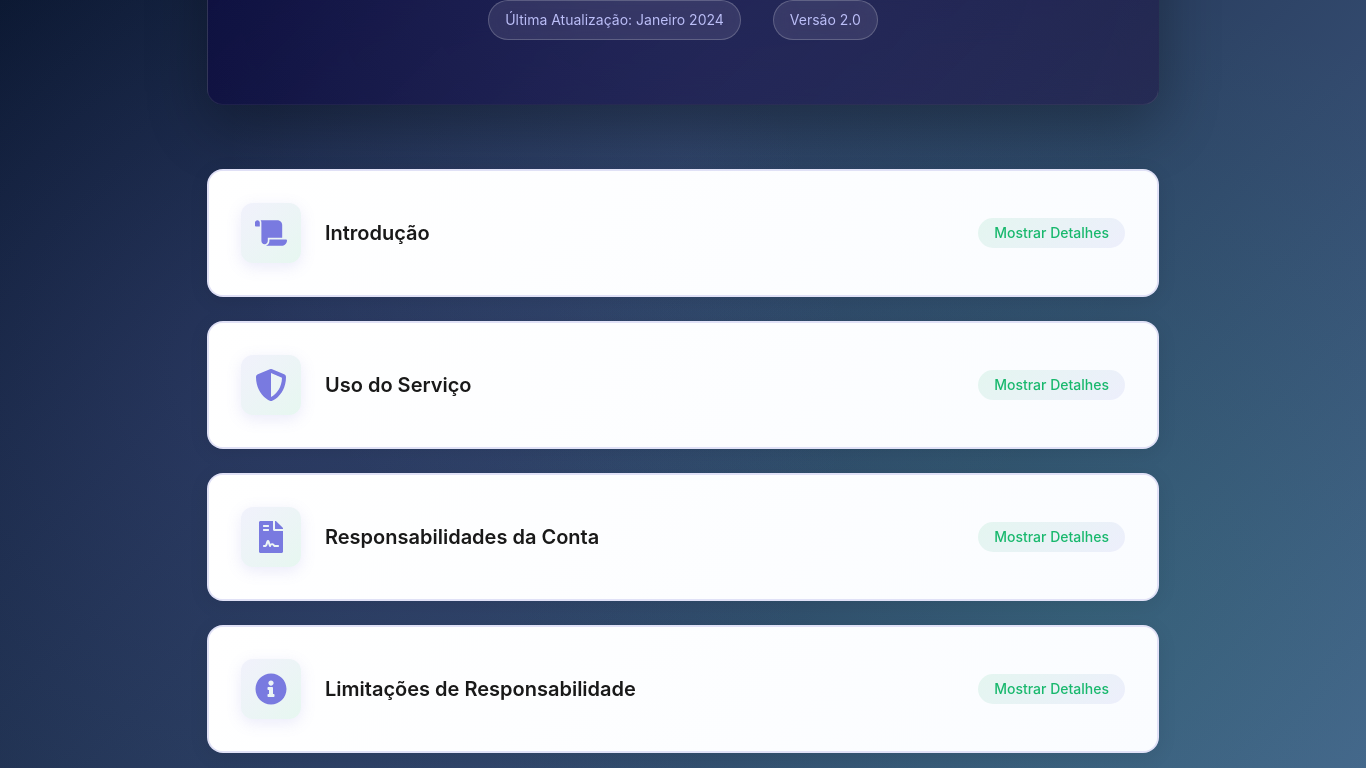
TermsAndConditions › Conteúdo das seções › exibe conteúdo da seção Uso do Serviço quando expandida
(page scrolled)
Click the heading "Uso do Serviço" at (398, 385), box [325,369,472,401]
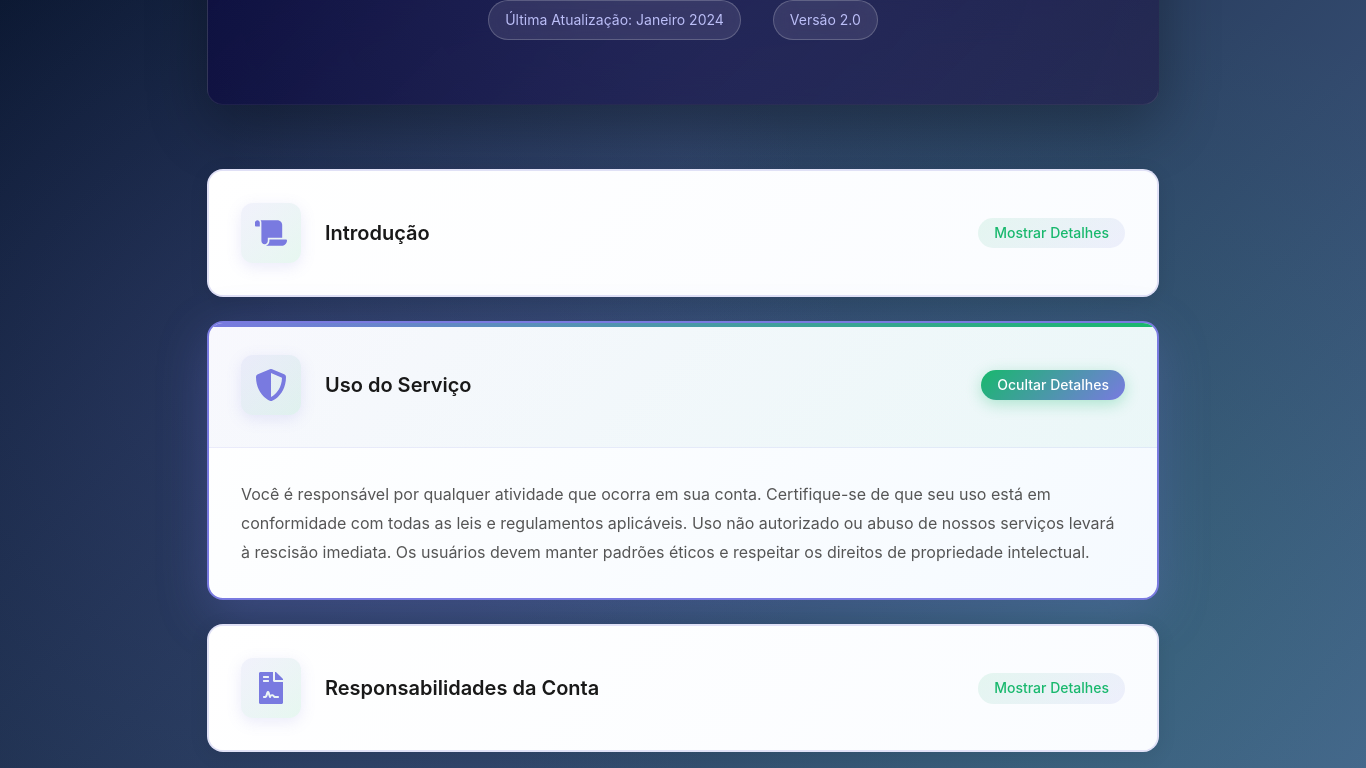
Now the text "Você é responsável por qualquer atividade" is shown, box [241,484,1115,562]
